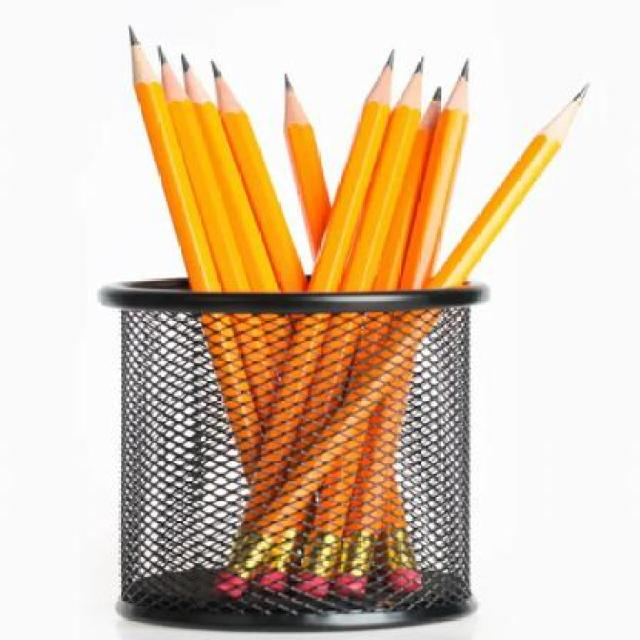pencil: (201, 76, 597, 606), (234, 42, 401, 537), (289, 82, 446, 602), (332, 54, 477, 599), (279, 65, 425, 599), (126, 18, 263, 486), (291, 51, 429, 466), (154, 40, 278, 431), (176, 50, 294, 381), (207, 52, 310, 324)
